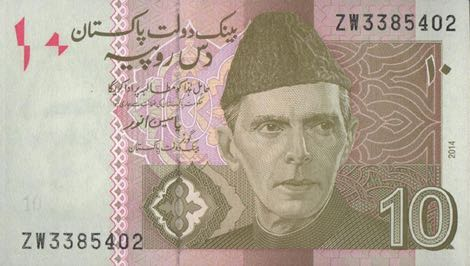10 rupee: (3, 2, 470, 265)
